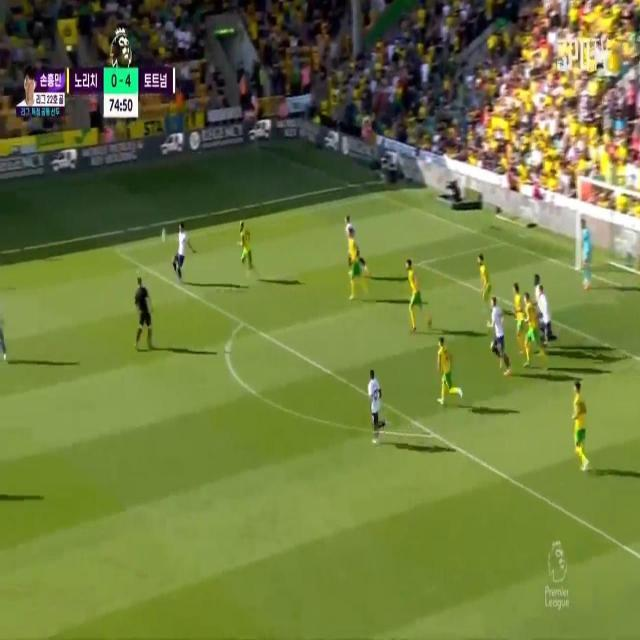ball: (159, 223, 169, 247)
goalkeeper: (575, 214, 595, 301)
player: (567, 380, 591, 467), (483, 295, 507, 367), (532, 277, 553, 352), (521, 296, 539, 371), (406, 255, 421, 332), (174, 214, 190, 284), (349, 226, 363, 300), (510, 274, 523, 348), (437, 331, 450, 402), (369, 367, 382, 437), (239, 221, 254, 279), (476, 249, 493, 298), (345, 210, 356, 249)
referee: (132, 276, 152, 344)
